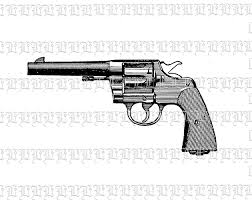gun: (25, 53, 220, 160)
